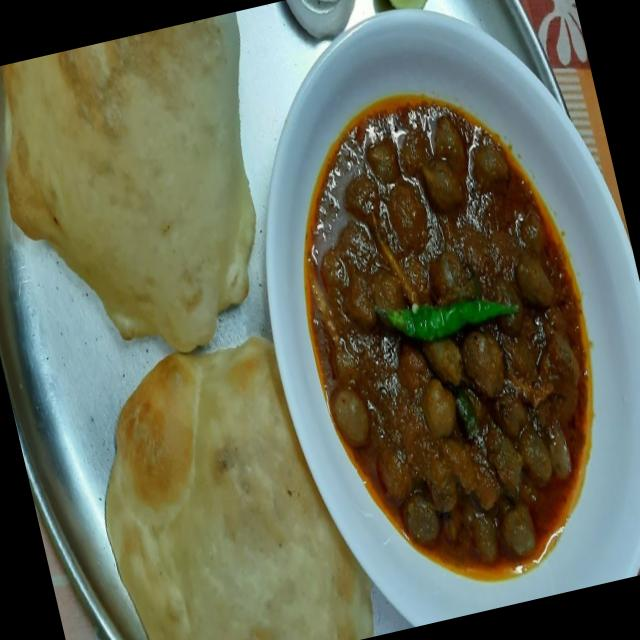Bhatura: (0, 11, 379, 640)
Chole: (270, 81, 622, 586)
